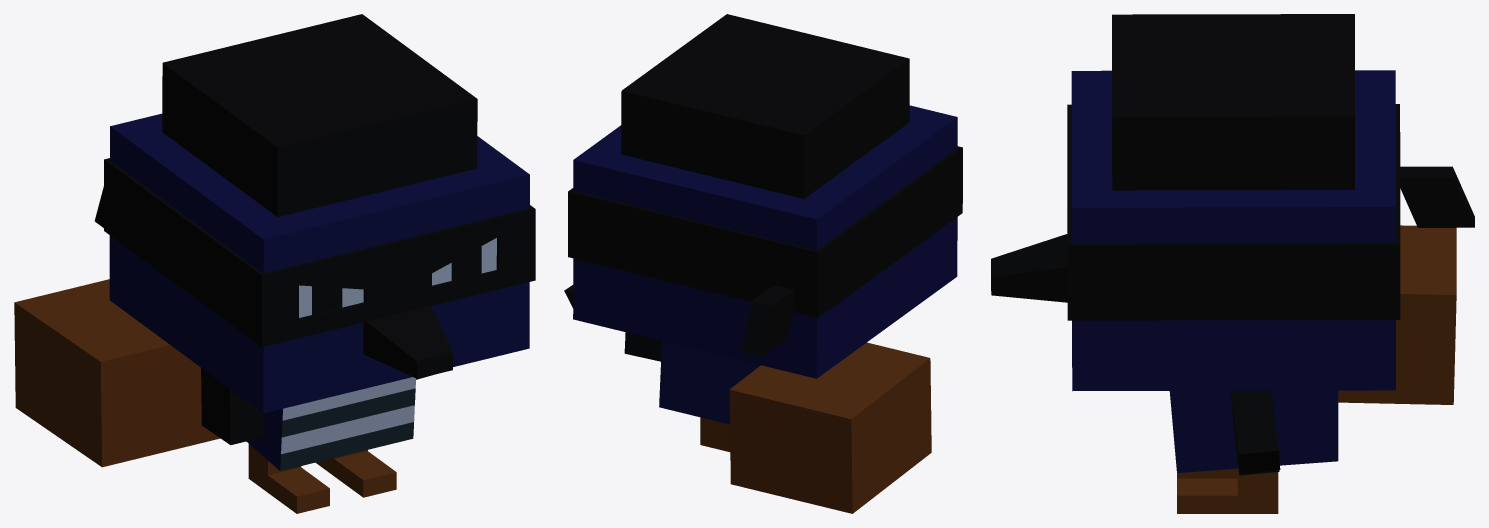
File: magpie_walk.glb
The picture shows the model from 3 angles, left to right: view 1: azimuth 30°, elevation 25°; view 2: azimuth 150°, elevation 25°; view 3: azimuth 270°, elevation 25°; orthographic projection. The views are drawn at different scales.
Visible parts, largest first — view 1: magpieWalk_head_MSH, magpieWalk_R_arm_MSH, magpieWalk_body_MSH, magpieWalk_R_leg_MSH, magpieWalk_L_leg_MSH; view 2: magpieWalk_head_MSH, magpieWalk_R_arm_MSH, magpieWalk_body_MSH, magpieWalk_L_arm_MSH, magpieWalk_L_leg_MSH; view 3: magpieWalk_head_MSH, magpieWalk_R_arm_MSH, magpieWalk_body_MSH, magpieWalk_L_leg_MSH, magpieWalk_L_arm_MSH.
Part boxes in pixels (x1=…): magpieWalk_head_MSH: x1=94, y1=14, x2=535, y2=413; magpieWalk_R_arm_MSH: x1=14, y1=279, x2=263, y2=467; magpieWalk_body_MSH: x1=246, y1=377, x2=415, y2=470; magpieWalk_R_leg_MSH: x1=248, y1=444, x2=329, y2=513; magpieWalk_L_leg_MSH: x1=316, y1=450, x2=396, y2=497; magpieWalk_head_MSH: x1=568, y1=14, x2=962, y2=378; magpieWalk_R_arm_MSH: x1=729, y1=342, x2=931, y2=513; magpieWalk_body_MSH: x1=659, y1=341, x2=760, y2=424; magpieWalk_L_arm_MSH: x1=564, y1=285, x2=661, y2=361; magpieWalk_L_leg_MSH: x1=700, y1=417, x2=730, y2=451; magpieWalk_head_MSH: x1=991, y1=14, x2=1474, y2=391; magpieWalk_R_arm_MSH: x1=1338, y1=225, x2=1456, y2=404; magpieWalk_body_MSH: x1=1169, y1=390, x2=1338, y2=472; magpieWalk_L_leg_MSH: x1=1177, y1=469, x2=1278, y2=513; magpieWalk_L_arm_MSH: x1=1230, y1=390, x2=1280, y2=475.
Size of the model in its own units: 1 by 0.961 by 0.9959.
